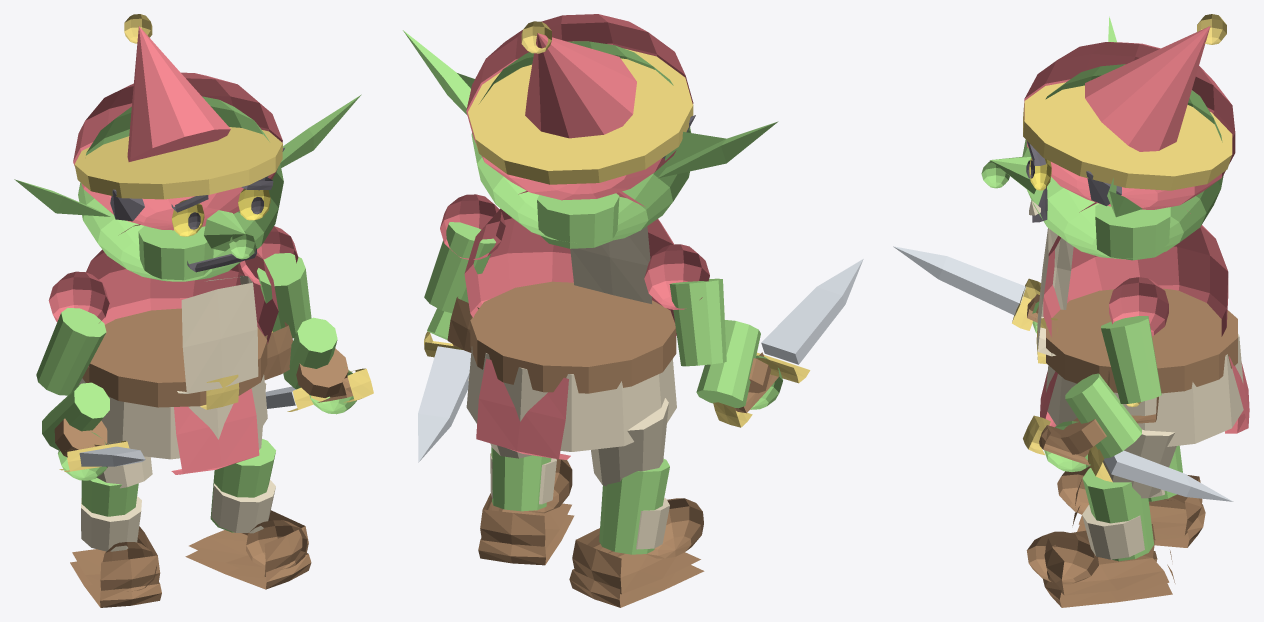
Rendered from duende_3.glb.
The picture shows the model from 3 angles, left to right: view 1: azimuth 30°, elevation 25°; view 2: azimuth 150°, elevation 25°; view 3: azimuth 270°, elevation 25°; orthographic projection. The views are drawn at different scales.
Parts seen in each view (by area): view 1: Duende_3; view 2: Duende_3; view 3: Duende_3.
Boxes of the visible parts, x1=… form: Duende_3: x1=14, y1=14, x2=373, y2=607; Duende_3: x1=403, y1=14, x2=863, y2=607; Duende_3: x1=893, y1=14, x2=1249, y2=607.
Bounding box in the file's own units: 0.682 × 0.9883 × 0.5873.
